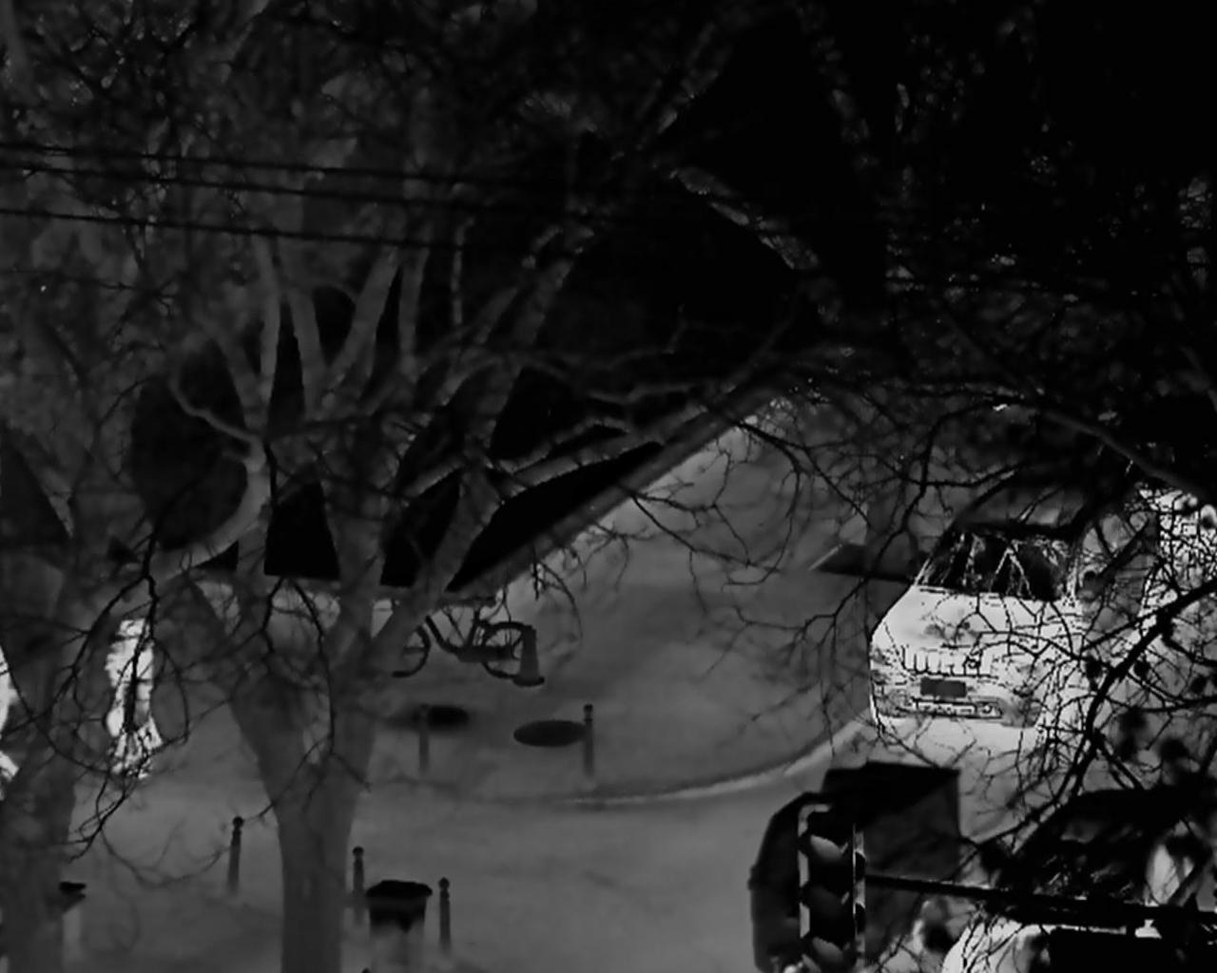person: (106, 616, 162, 777)
